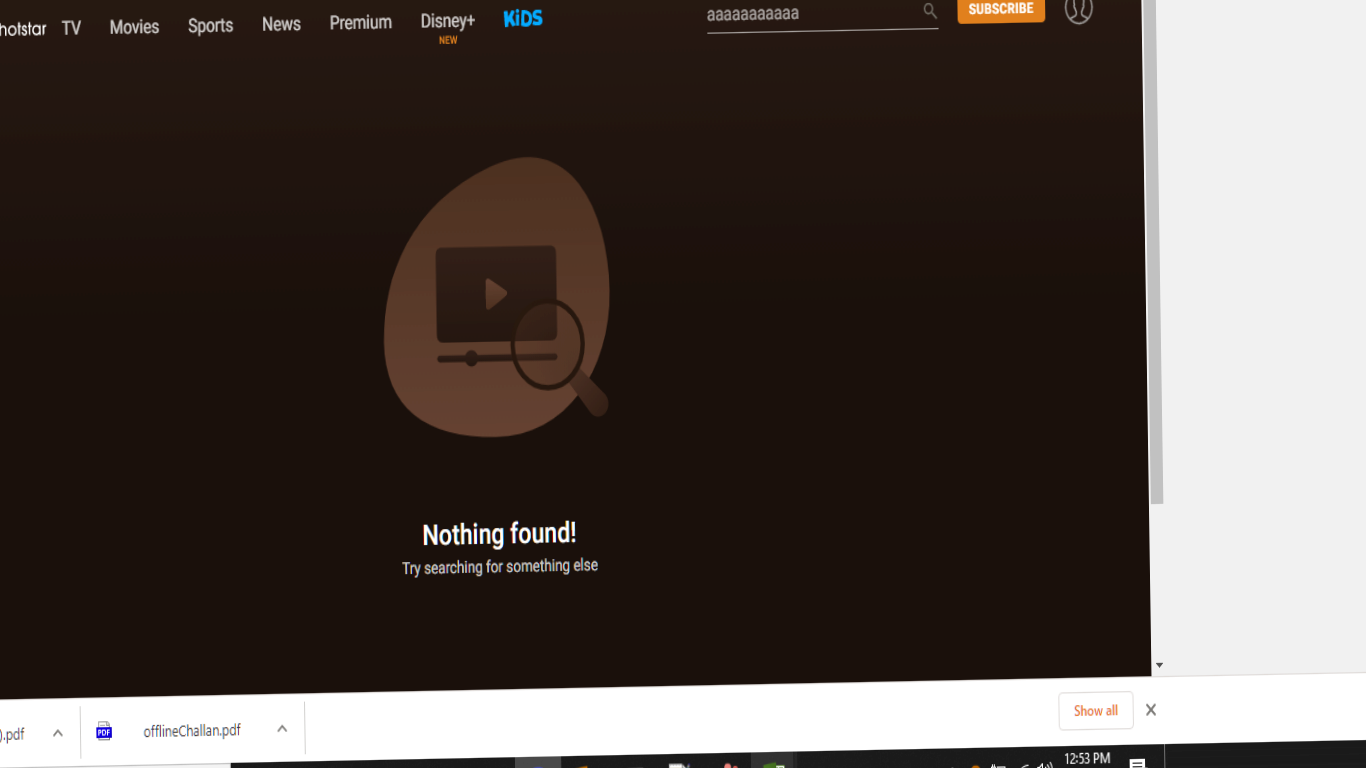noresultsfound: (360, 498, 648, 604)
profileicon: (1056, 1, 1096, 29)
searchicon: (918, 3, 938, 29)
searchtextbox: (701, 1, 946, 40)
